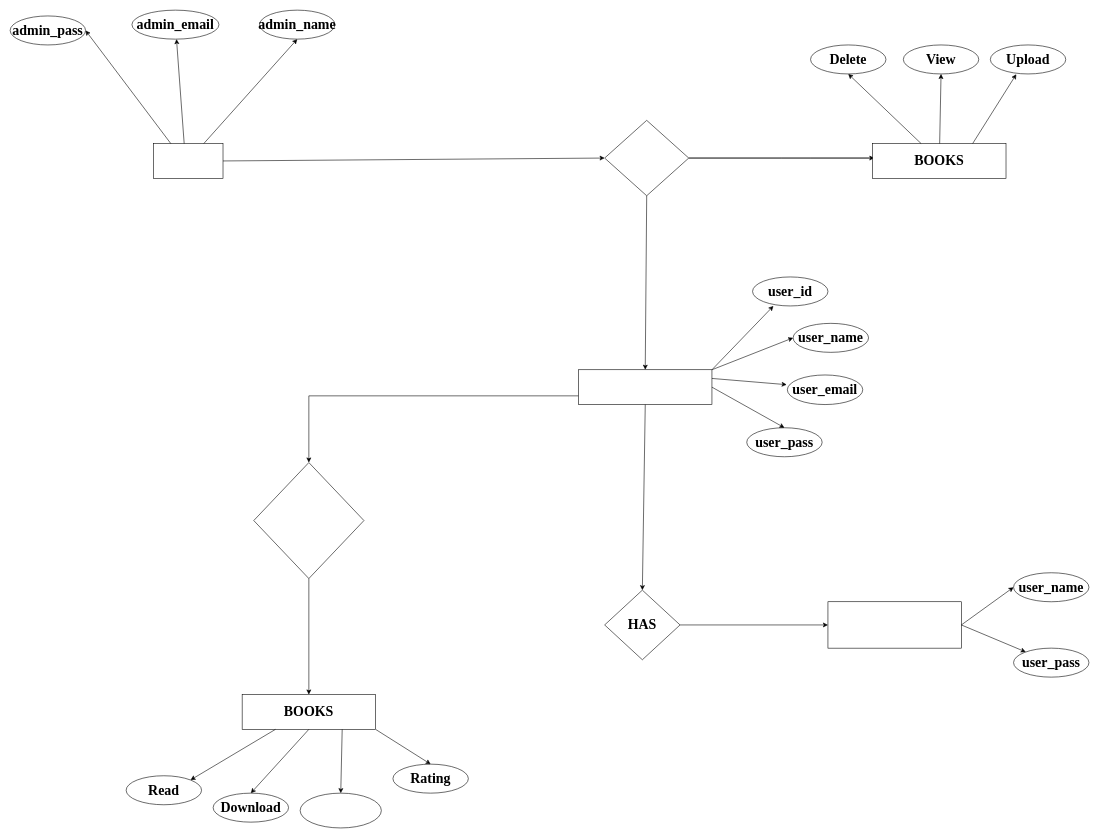
Some shapes in this 1099 by 838 pixel diagram are drawn without their labels. Each missing label, with the box of its shape:
ADMIN: (153, 143, 223, 178)
Login: (827, 601, 961, 648)
MANAGE: (604, 120, 689, 196)
planning: (300, 793, 381, 828)
READ/ DOWNLOAD: (253, 462, 364, 579)
USER: (578, 369, 712, 405)
